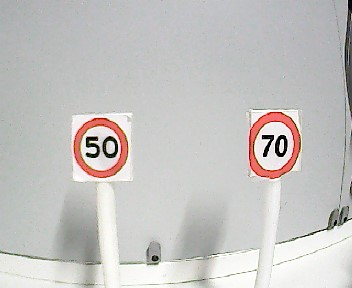50-bord: (75, 118, 128, 179)
70-bord: (250, 111, 301, 180)
